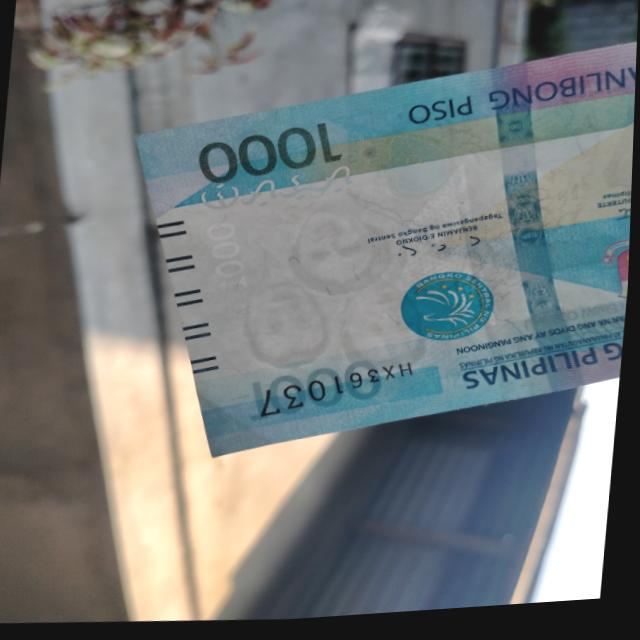security_thread: (488, 69, 587, 401)
see_through_mark: (190, 159, 381, 225)
serial_number: (258, 361, 419, 428)
value_watermark: (196, 215, 259, 308)
watermark: (233, 189, 438, 386)
